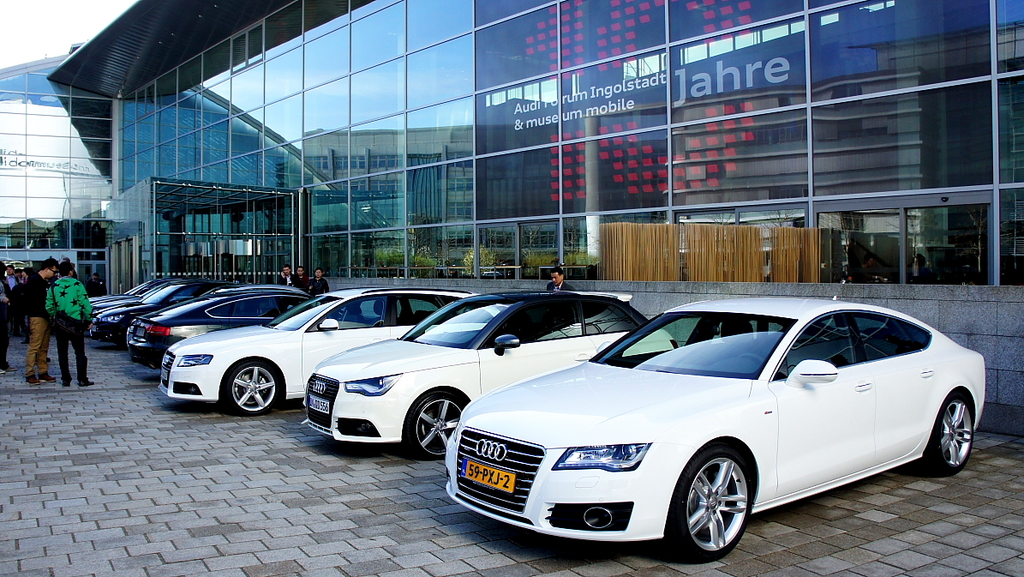Car: (51, 276, 985, 563)
